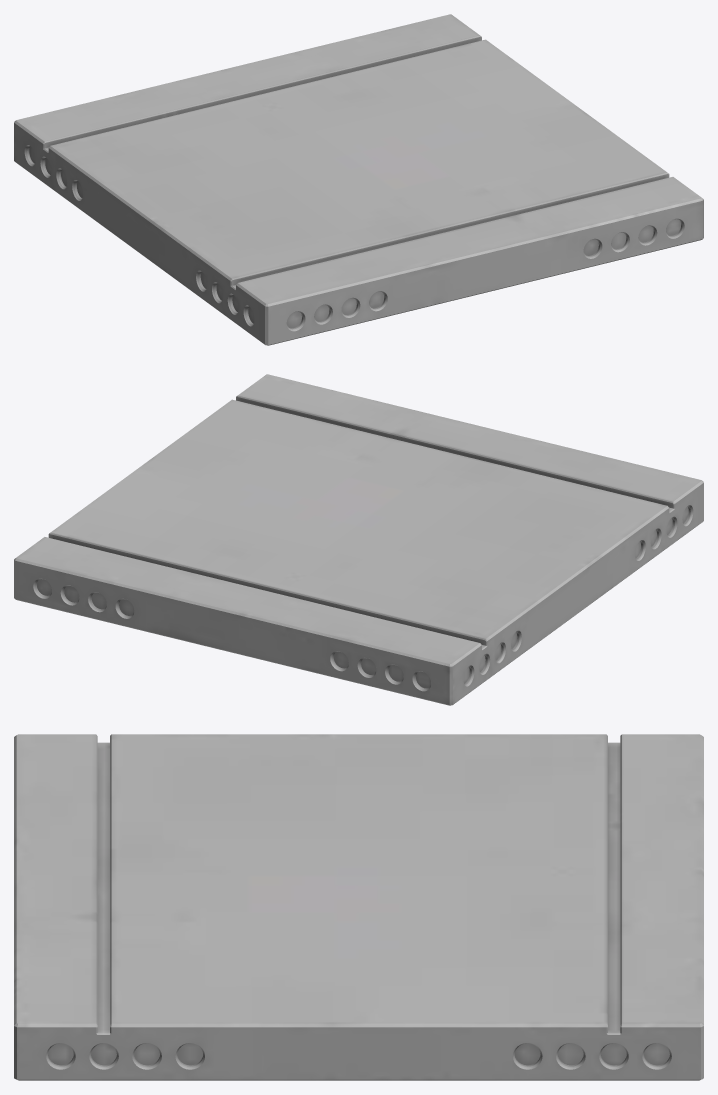
Rendered from SM_Roof_SF_82090d.glb.
The picture shows the model from 3 angles, top to bottom: view 1: azimuth 30°, elevation 25°; view 2: azimuth 150°, elevation 25°; view 3: azimuth 270°, elevation 25°; orthographic projection. The views are drawn at different scales.
Bounding box in the file's own units: 4 × 0.3596 × 4.
1 material, 1 textured.
